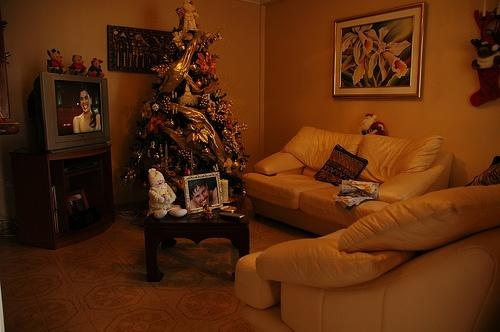sofa: (231, 183, 500, 332), (242, 123, 456, 236)
tvmonitor: (26, 73, 111, 151)
